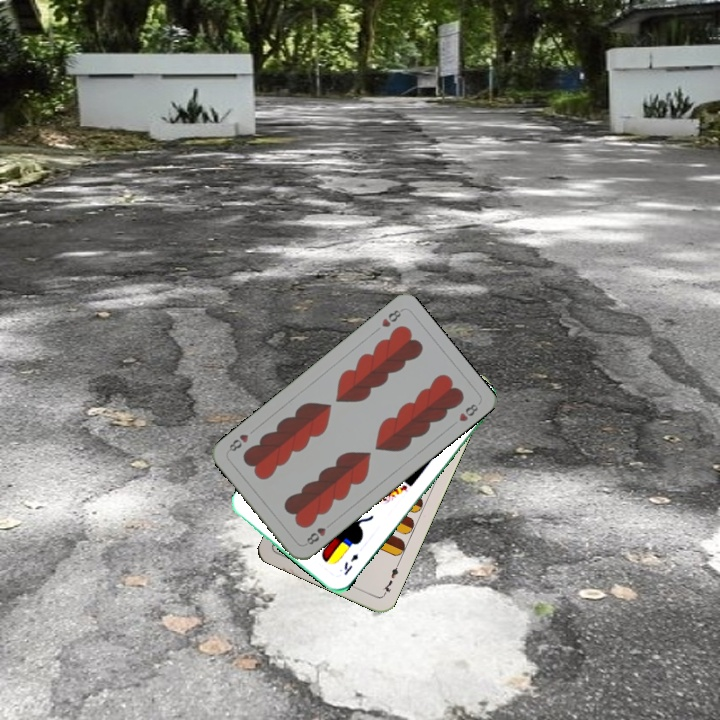E7: (378, 560, 402, 598)
EK: (340, 549, 361, 577)
H8: (377, 305, 405, 330), (302, 523, 329, 547)
